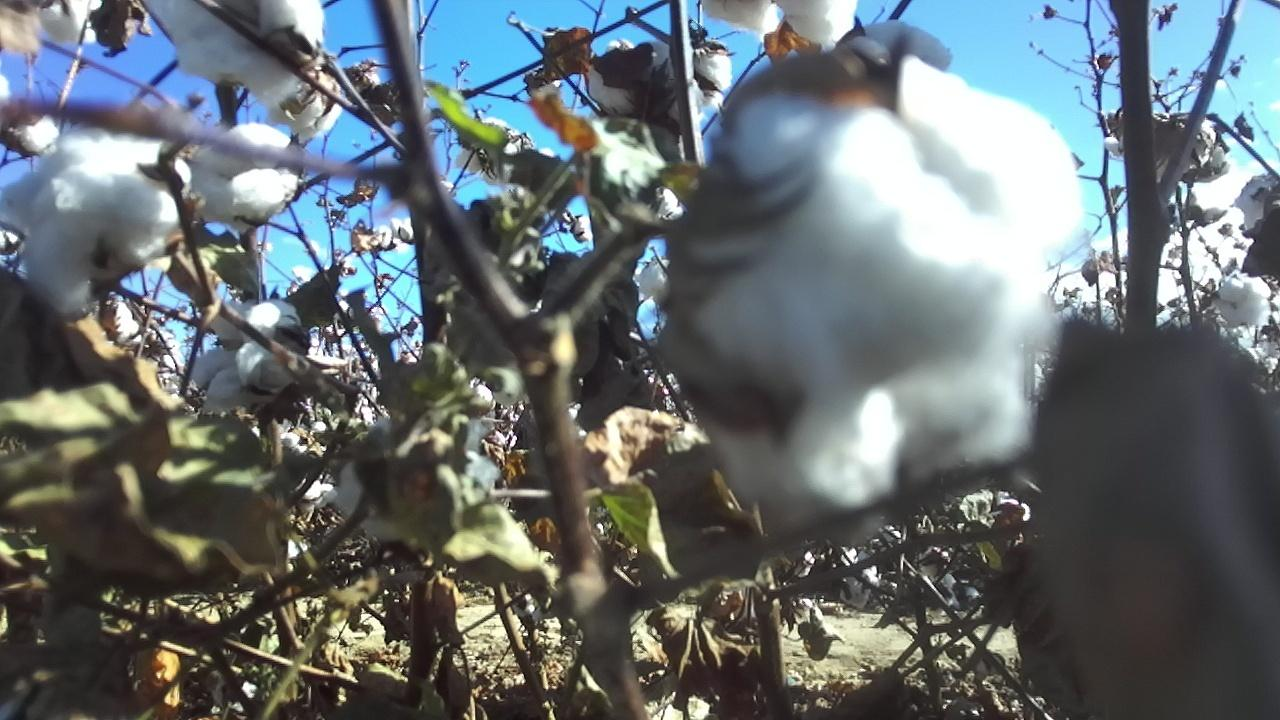cotton_ready: (684, 47, 1082, 529), (0, 131, 192, 318), (139, 0, 325, 107), (191, 300, 305, 413), (339, 417, 433, 546), (188, 121, 299, 220), (710, 0, 859, 45), (1102, 122, 1213, 182), (264, 70, 347, 139), (656, 37, 732, 112), (454, 119, 529, 182), (37, 0, 105, 45), (1217, 278, 1272, 330), (1235, 174, 1280, 235)
